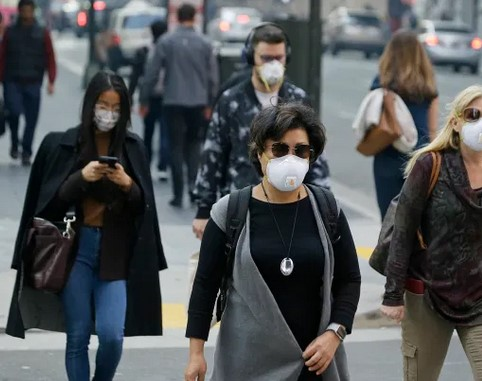face_with_mask: (251, 111, 321, 195), (83, 70, 131, 135), (249, 24, 291, 87), (452, 86, 482, 161)
